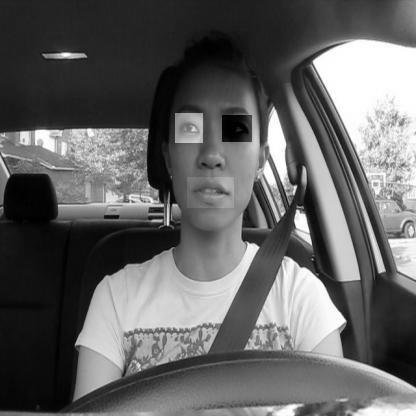seatbelt: (145, 30, 288, 357)
